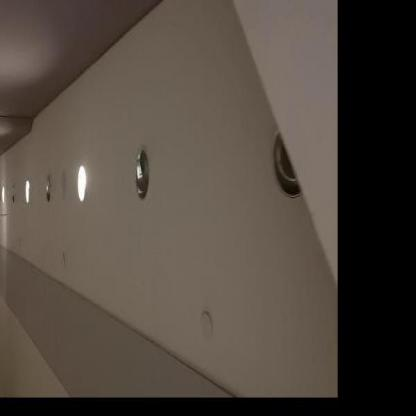light_off: (266, 110, 303, 213), (126, 128, 162, 214), (8, 170, 20, 224), (43, 154, 53, 218), (0, 173, 1, 218)
